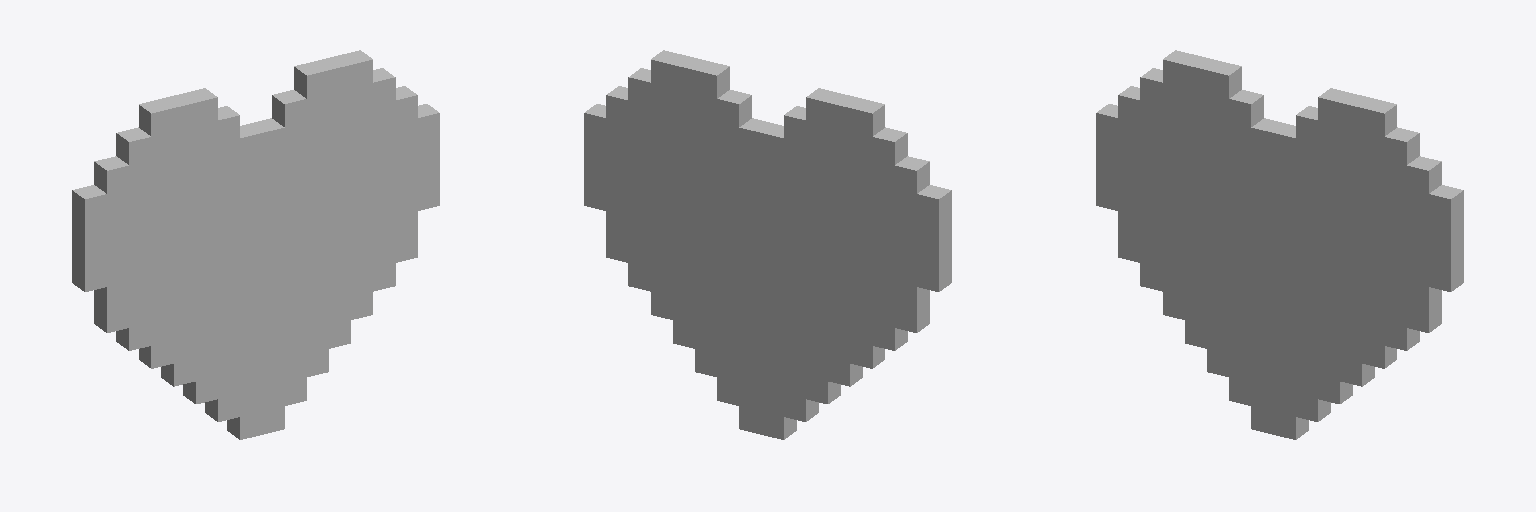
Rendered from Heart.obj.
3 views of the same model, side by side, from view 1: azimuth 30°, elevation 25°; view 2: azimuth 150°, elevation 25°; view 3: azimuth 330°, elevation 25° (orthographic).
Visible parts, largest first — view 1: Heart; view 2: Heart; view 3: Heart.
Boxes of the visible parts, box(x1,y1,x2,y2) form: Heart: box(72, 50, 439, 439); Heart: box(584, 50, 951, 439); Heart: box(1096, 50, 1463, 439).
Bounding box in the file's own units: 16 × 15 × 1.